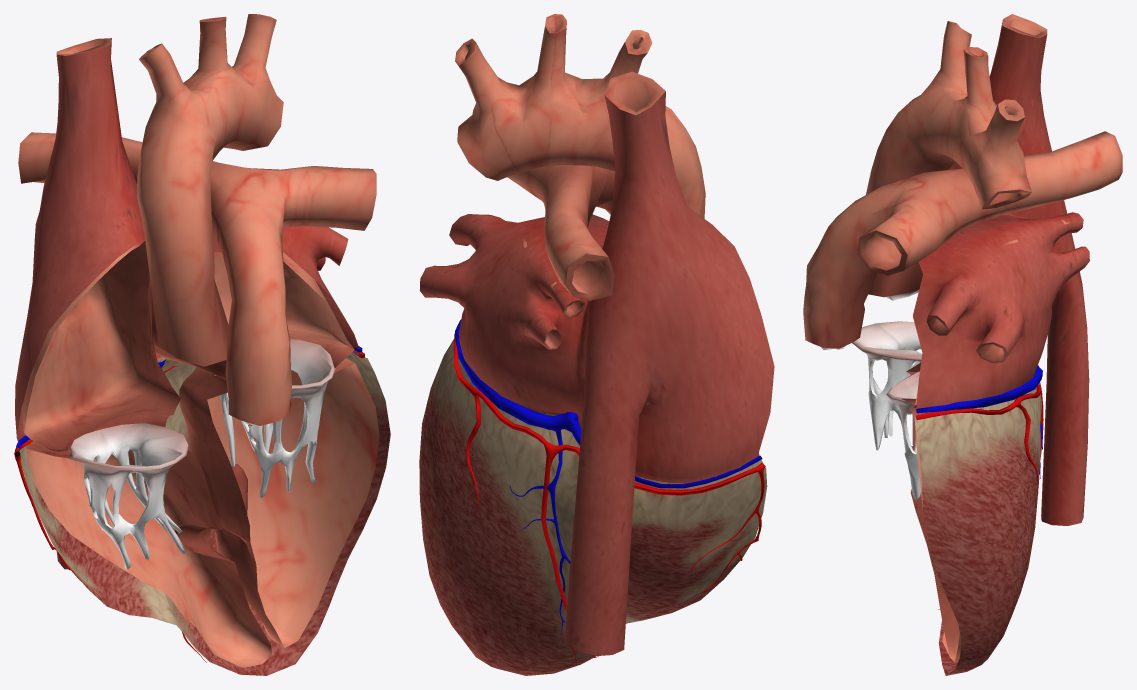
The model's file is AR_Heart_cutOutBack_Geo.fbx.
The picture shows the model from 3 angles, left to right: view 1: azimuth 30°, elevation 25°; view 2: azimuth 150°, elevation 25°; view 3: azimuth 270°, elevation 25°; orthographic projection. The views are drawn at different scales.
Visible parts, largest first — view 1: Heart_cutout_back; view 2: Heart_cutout_back; view 3: Heart_cutout_back.
Boxes of the visible parts, x1,y1,x2,y2 form: Heart_cutout_back: [14, 14, 390, 675]; Heart_cutout_back: [419, 14, 774, 675]; Heart_cutout_back: [803, 14, 1122, 675].
Bounding box in the file's own units: 833 × 1492 × 720.
